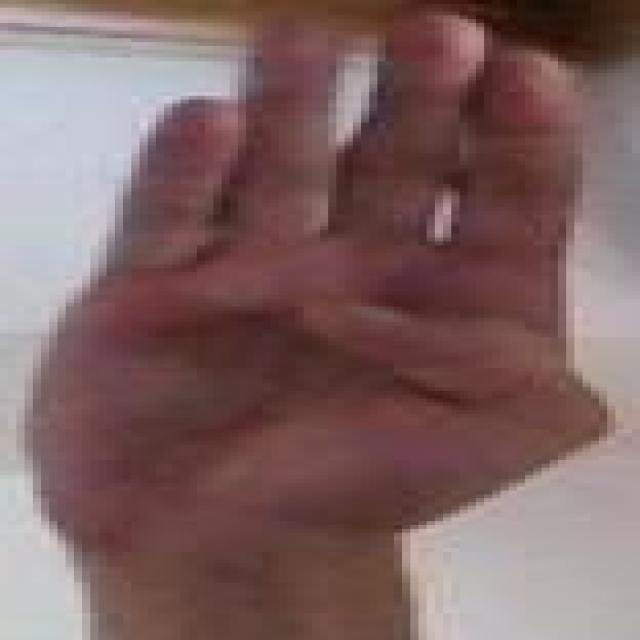B: (4, 6, 640, 624)
